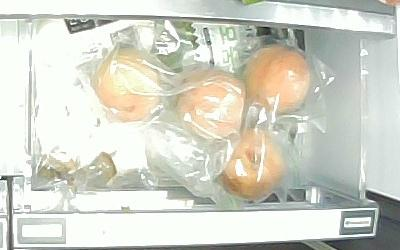peach_vinyl: (218, 132, 287, 202), (243, 44, 312, 114), (94, 49, 160, 122), (177, 71, 246, 138)
